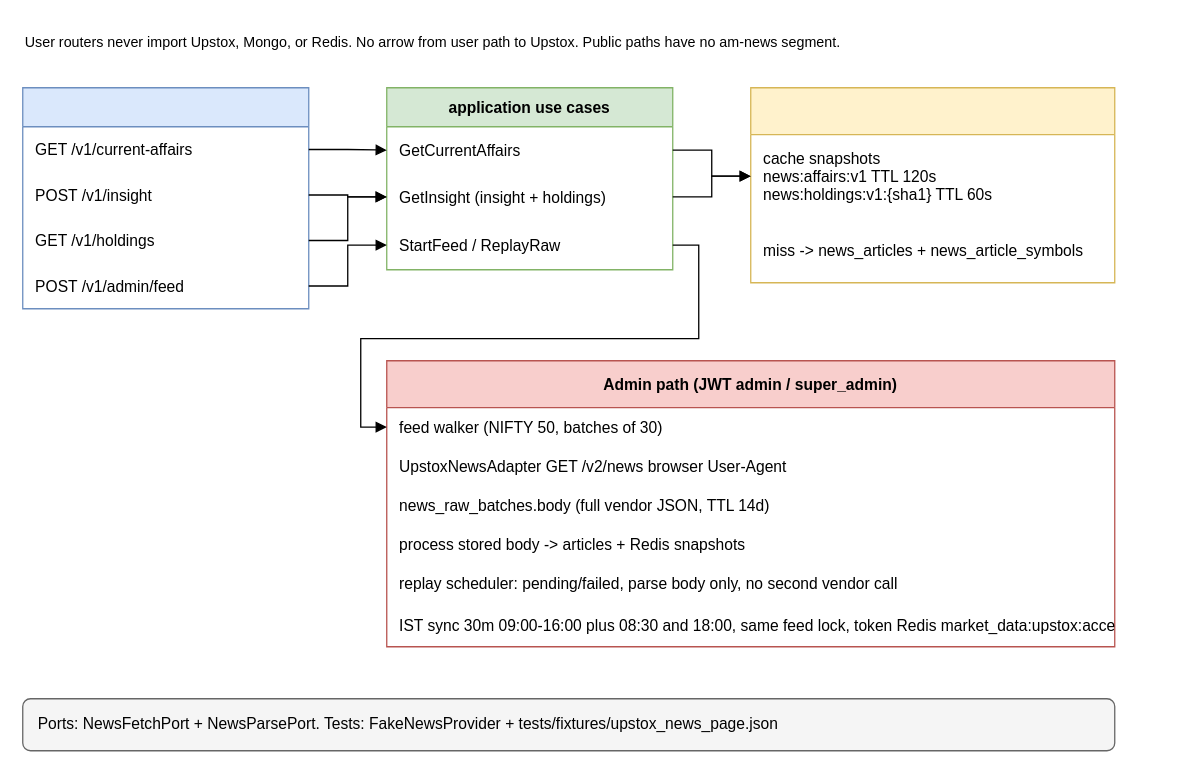
Image size: 1199x774. Some labels were removed from this diagram. The shapes that lost their labels are listed below. From the top down, each one's box as (x1, y1, x2, y2) in pixels, then its label:
(21, 86, 309, 309): HTTP routers (thin)
(749, 86, 1115, 283): User path (JWT) Redis then Mongo
